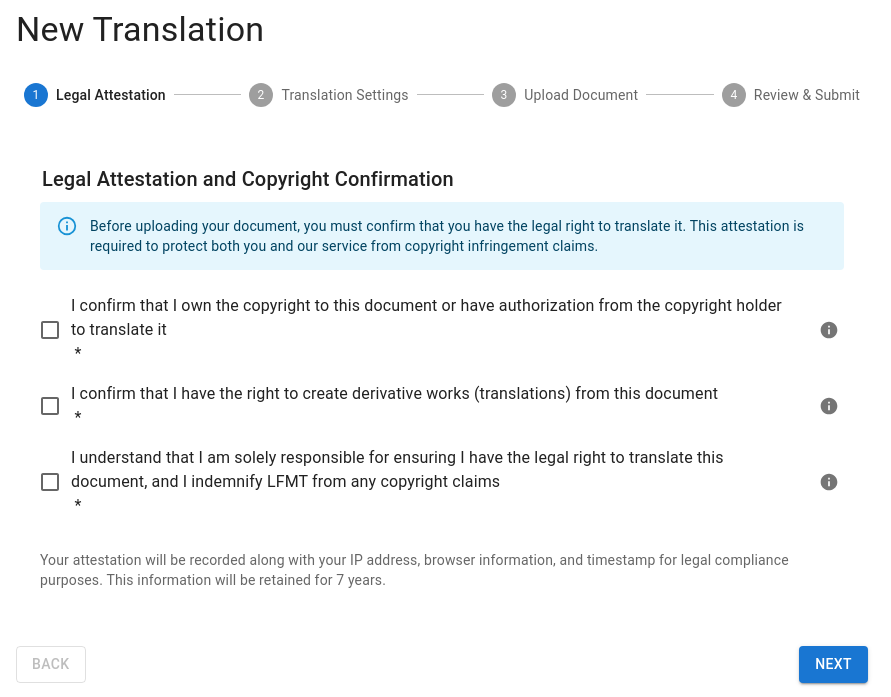
TranslationUpload › Step 1: Legal Attestation Validation › should advance to step 2 when all checkboxes are checked
What coordinates should you click on to do the following:
click the checkbox labelled "I confirm that I own the copyright"
I would click on:
 (426, 306)
Its box is x1=29 y1=294 x2=798 y2=366.
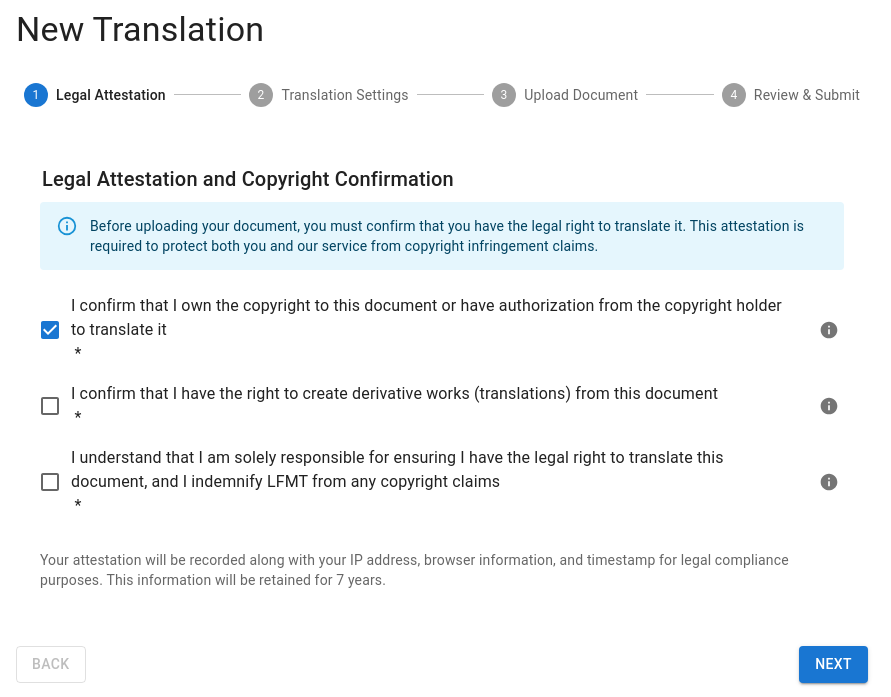
What coordinates should you click on to do the following:
click the checkbox labelled "I confirm that I have the right to create derivative works"
I would click on:
 (414, 406)
Its box is x1=29 y1=382 x2=798 y2=430.
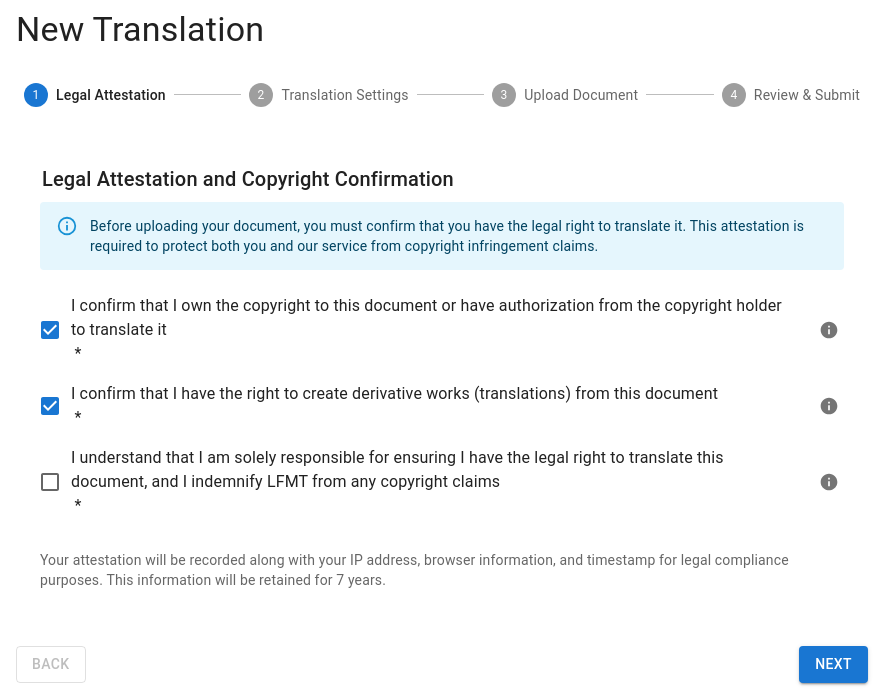
What coordinates should you click on to do the following:
click the checkbox labelled "I understand that I am solely responsible"
I would click on:
 (414, 482)
Its box is x1=29 y1=446 x2=798 y2=518.
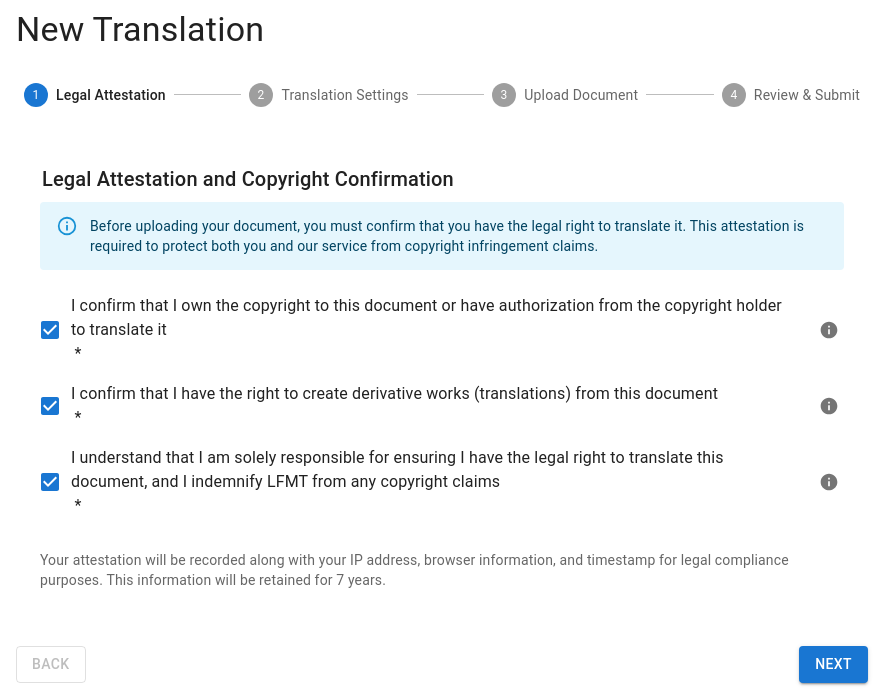
What coordinates should you click on to do the following:
click the button "Next"
I would click on:
 (834, 664)
Its box is x1=799 y1=646 x2=868 y2=682.
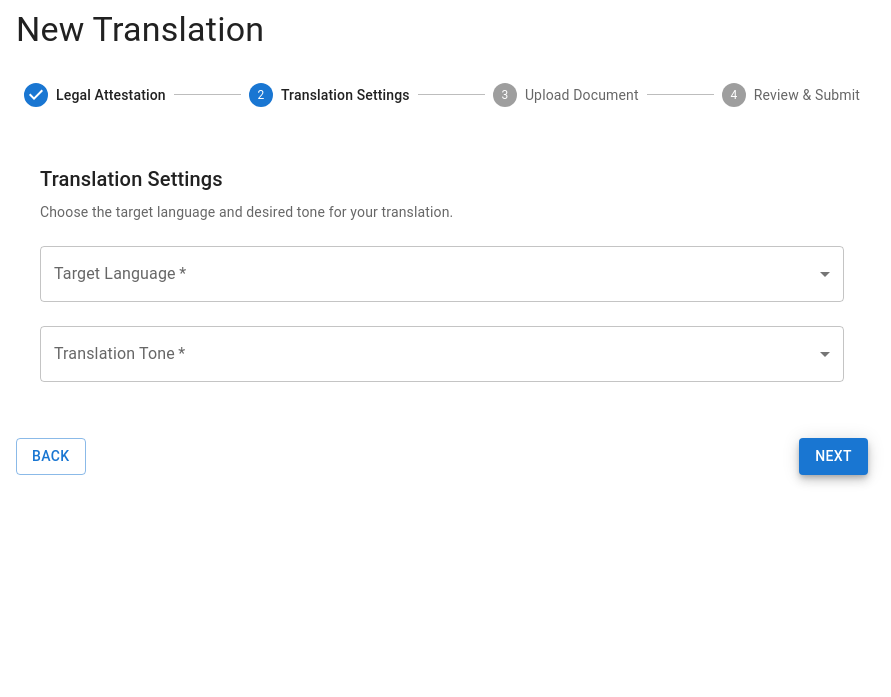
Now the 1st dropdown named "Target Language" is shown, box x1=40 y1=246 x2=844 y2=302
Now the dropdown named "Translation Tone" next to "Translation Tone" is shown, box x1=40 y1=326 x2=844 y2=382
